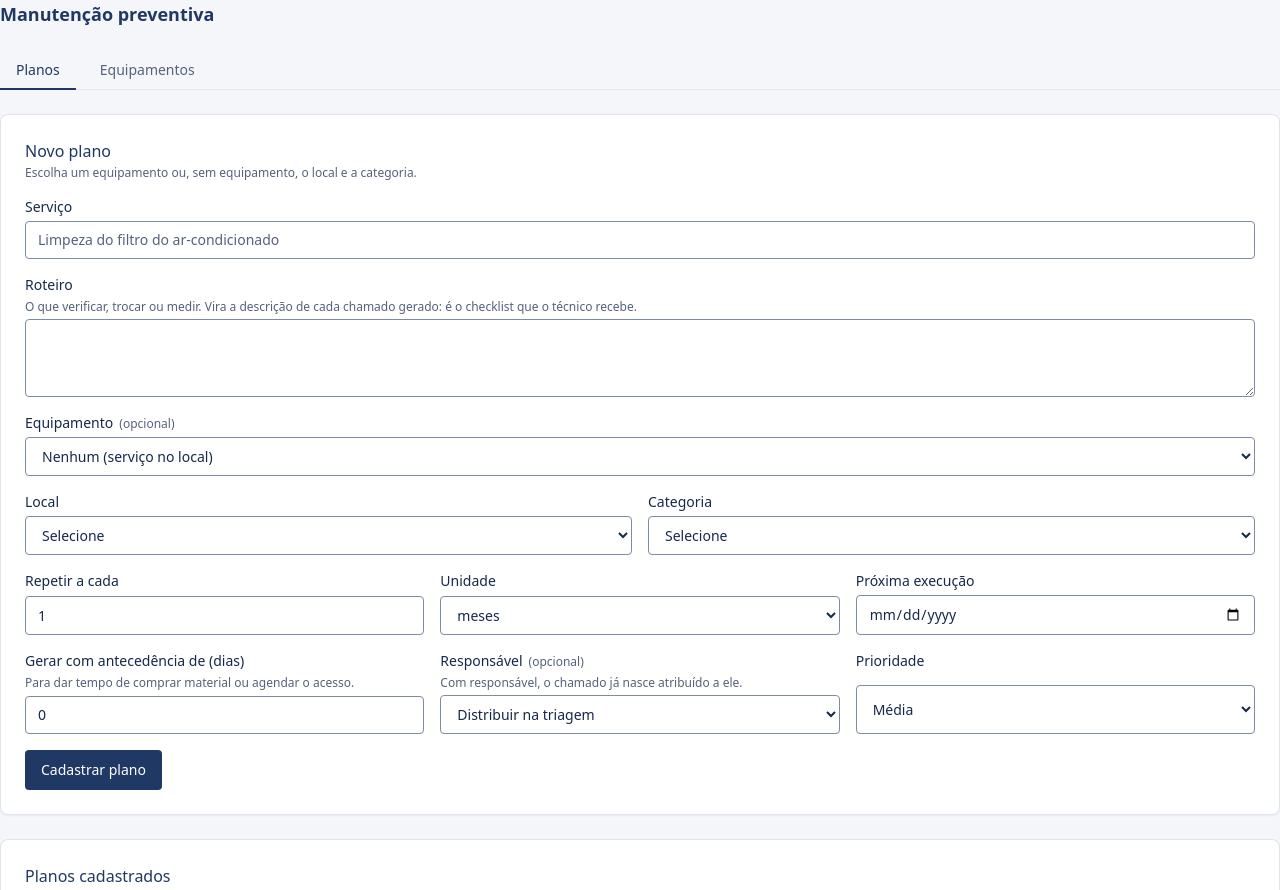
Test: Tela de manutenção preventiva › cadastra equipamento e mostra o erro da API quando o código já existe
This screenshot has width=1280, height=890.
Click the button "Equipamentos": point(147, 71) [84,52,211,90]
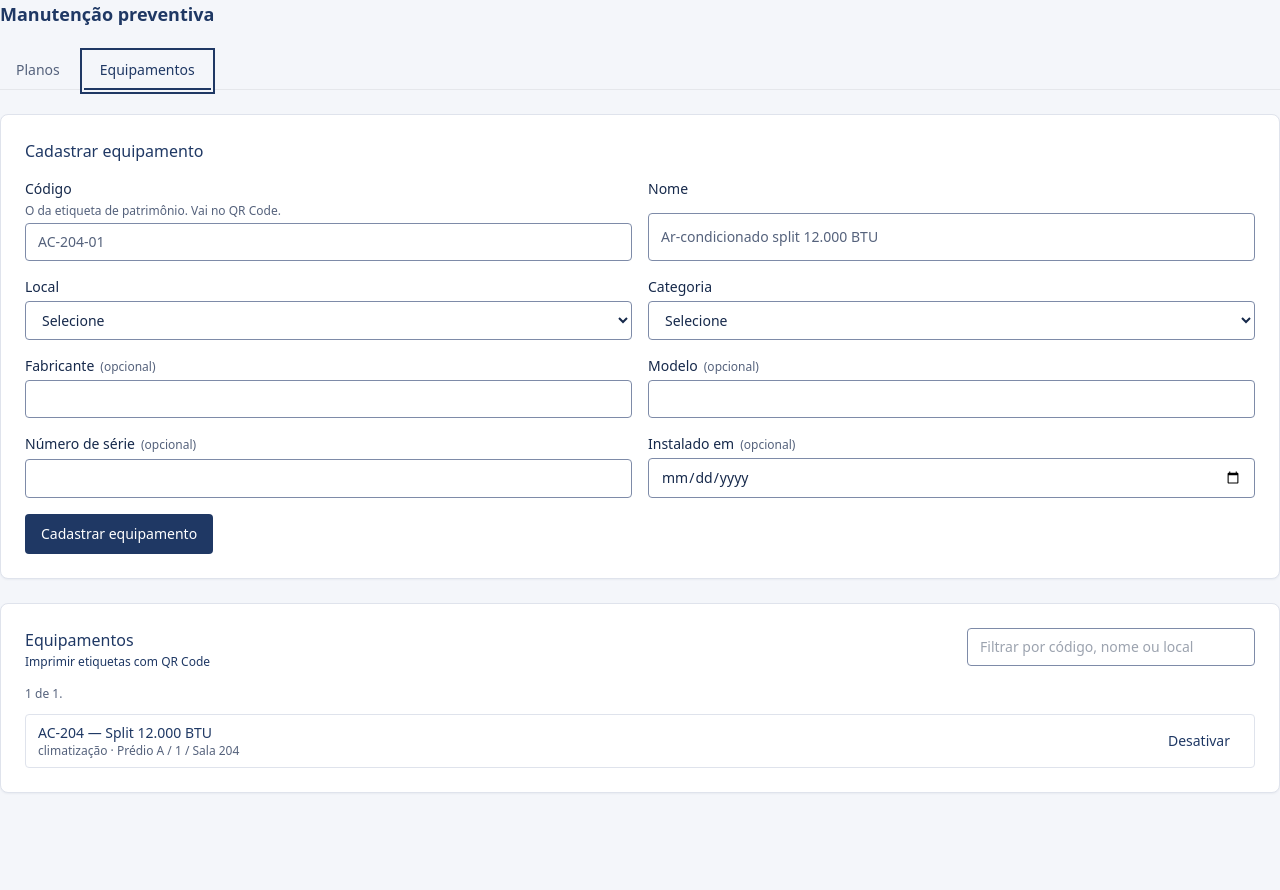
In the field labelled "Código": point(328, 242) [25,223,632,261], type "ac-204"
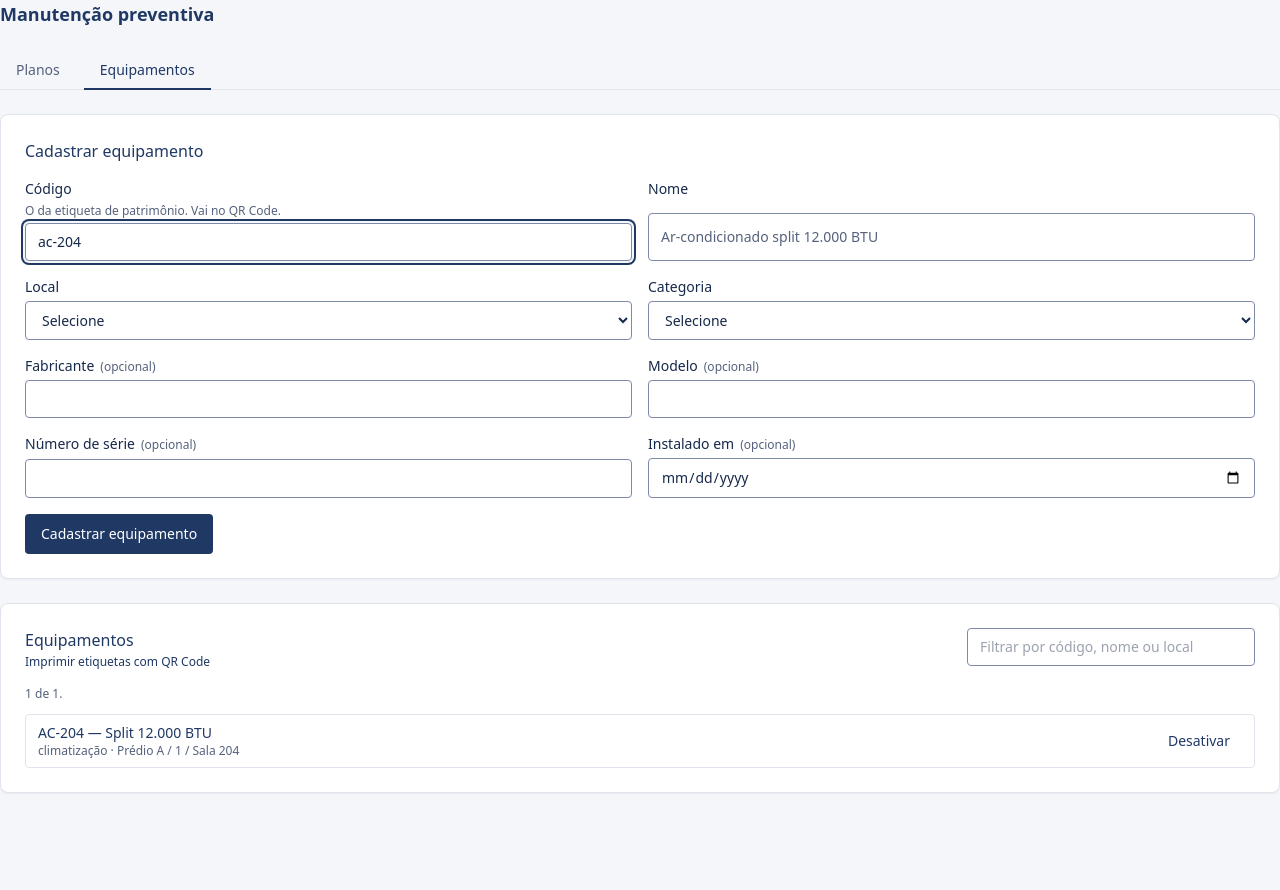
In the field labelled "Nome": point(952, 237) [648,213,1255,261], type "Outro split"
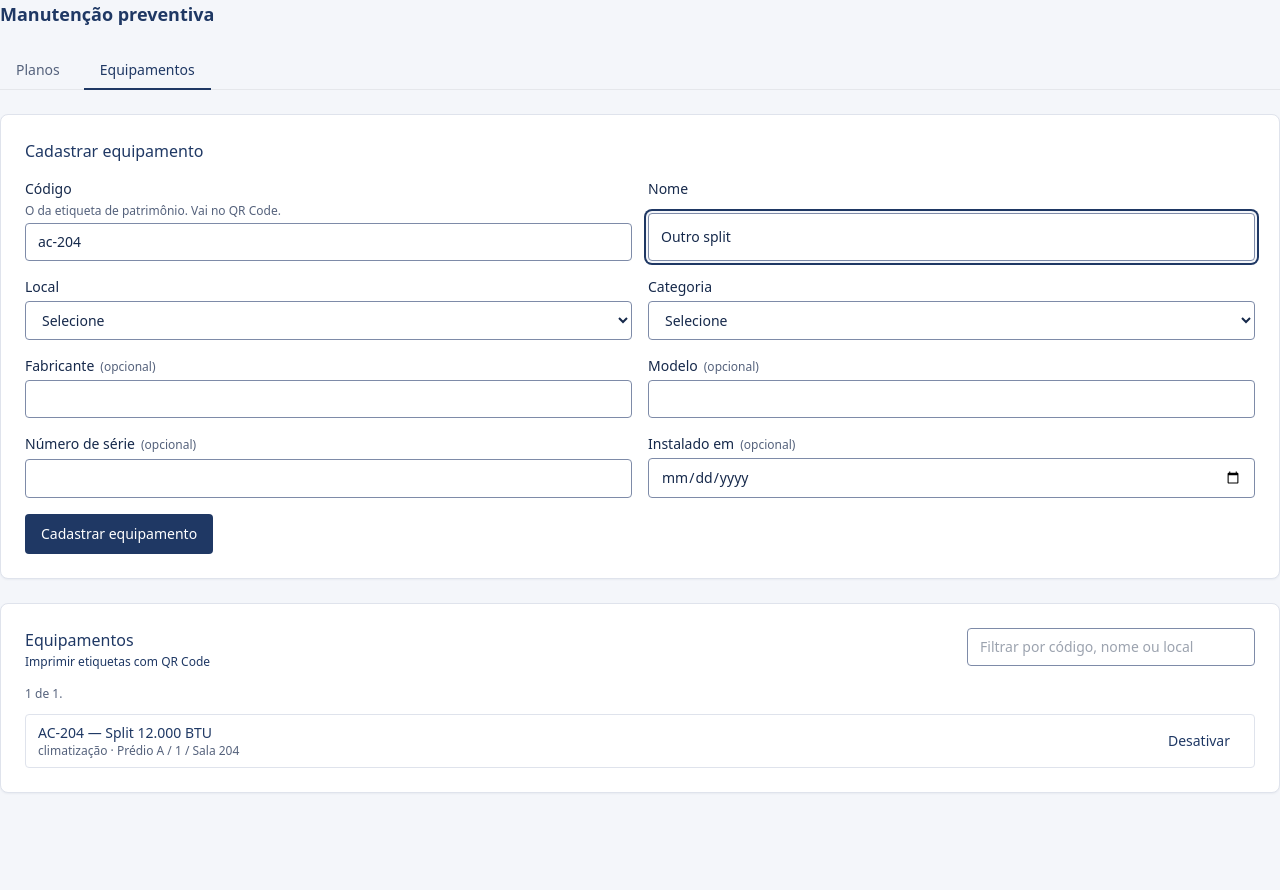
Select "Prédio A / 1 / Sala 204" in the dropdown labelled "Local": point(328, 320) [25,301,632,340]
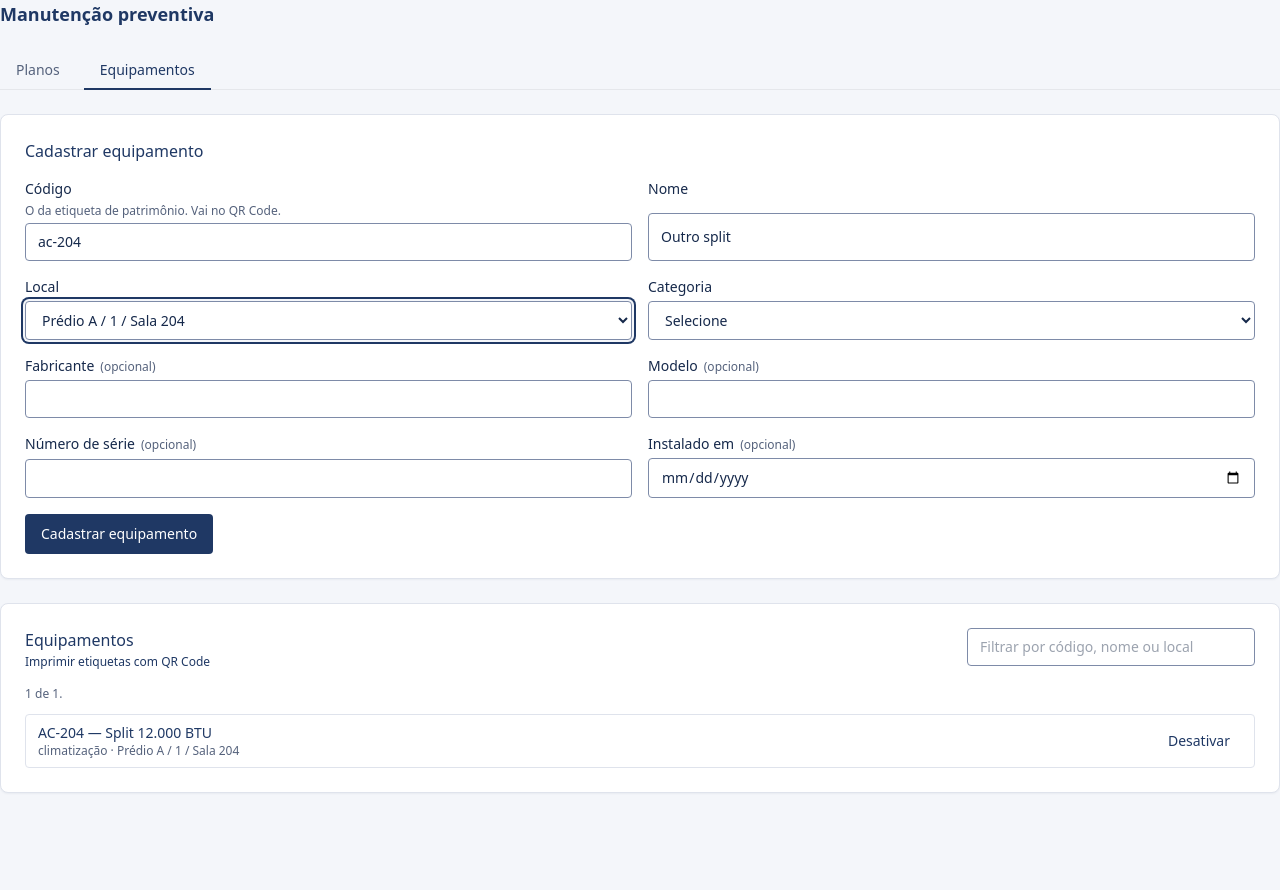
Select "climatização" in the dropdown labelled "Categoria": point(952, 320) [648,301,1255,340]
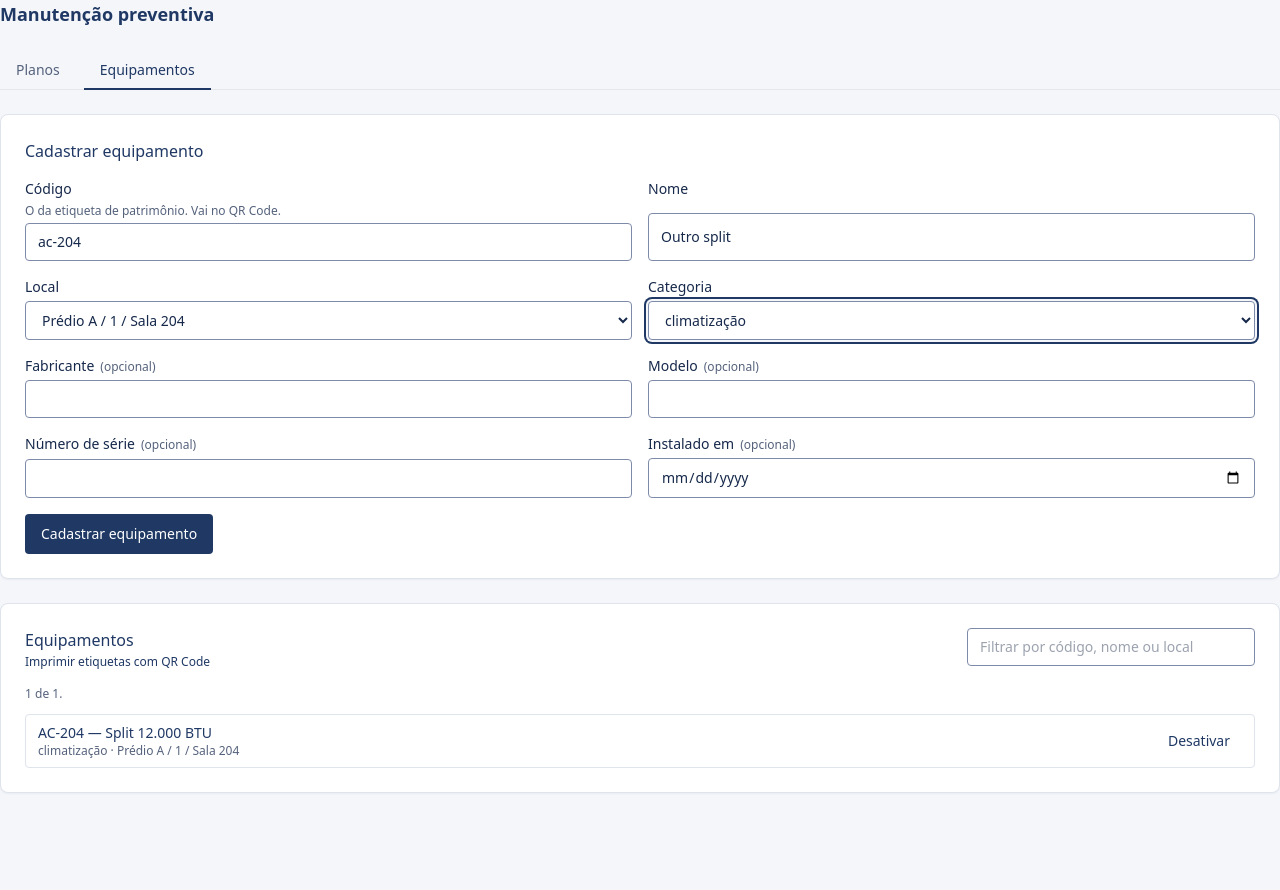
Click the button "Cadastrar equipamento": point(119, 534) [25,514,213,554]
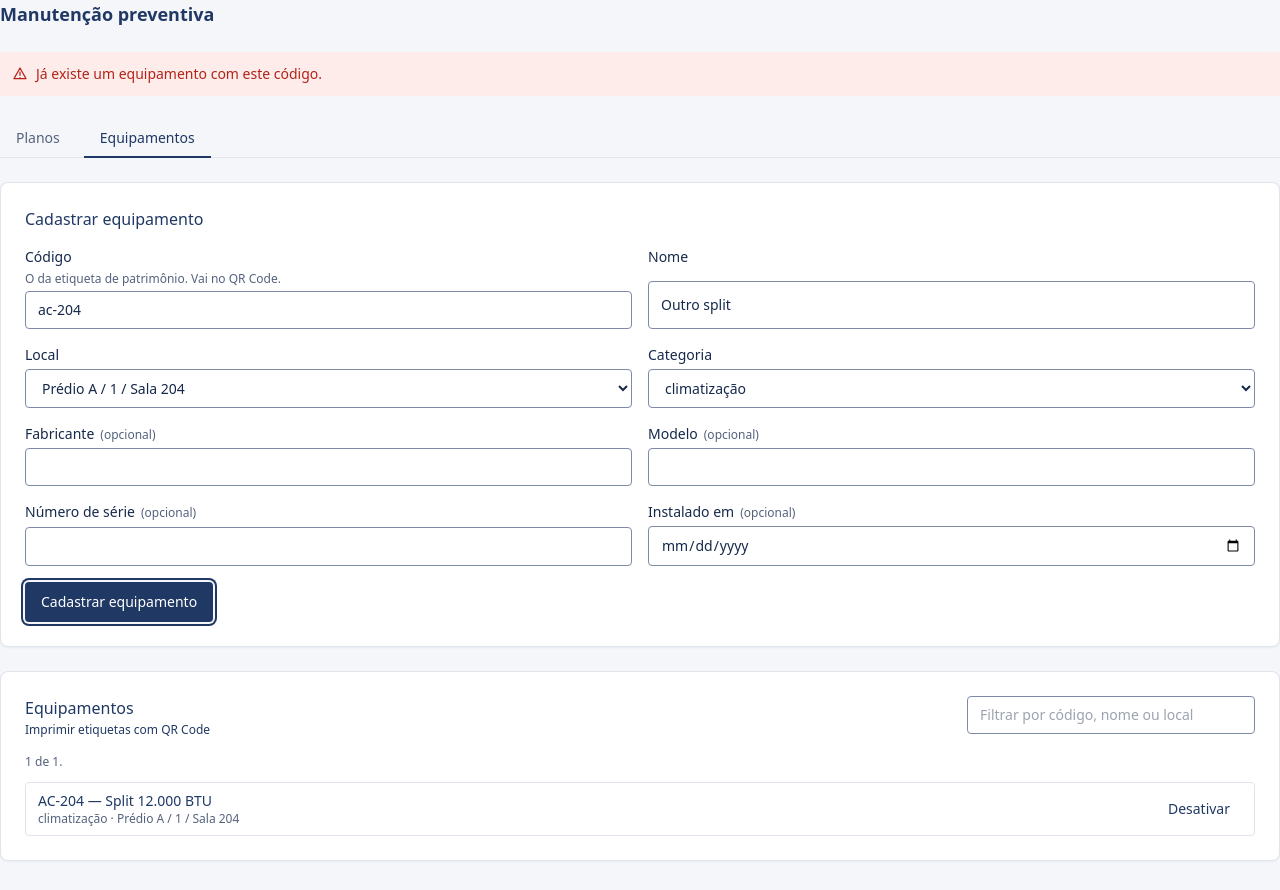
Expected: the text "Já existe um equipamento com este código." is shown, [36,64,322,83]
